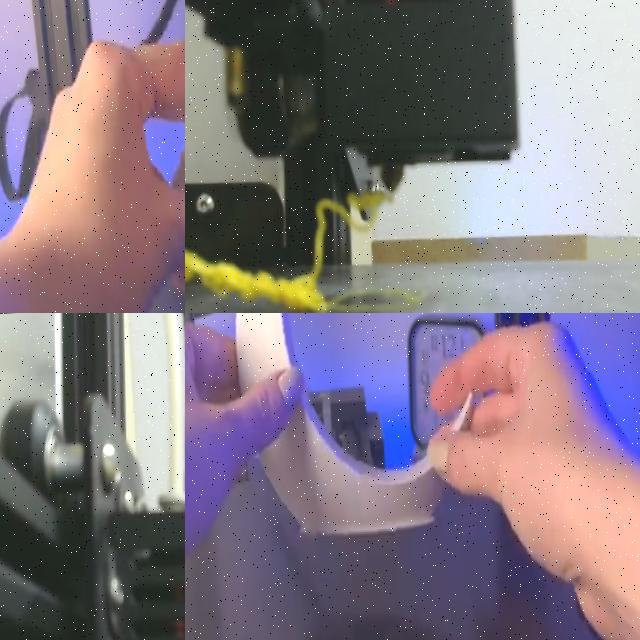spaghetti: (185, 198, 356, 310), (347, 193, 390, 221)
